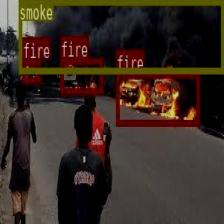fire: (115, 71, 199, 125), (60, 57, 102, 93), (22, 59, 40, 82)
smoke: (18, 0, 224, 72)
